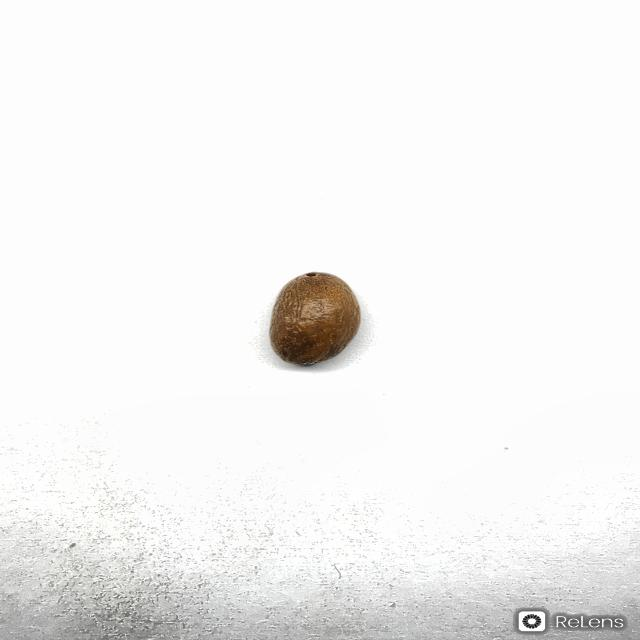Insect damage: (268, 270, 361, 366)
